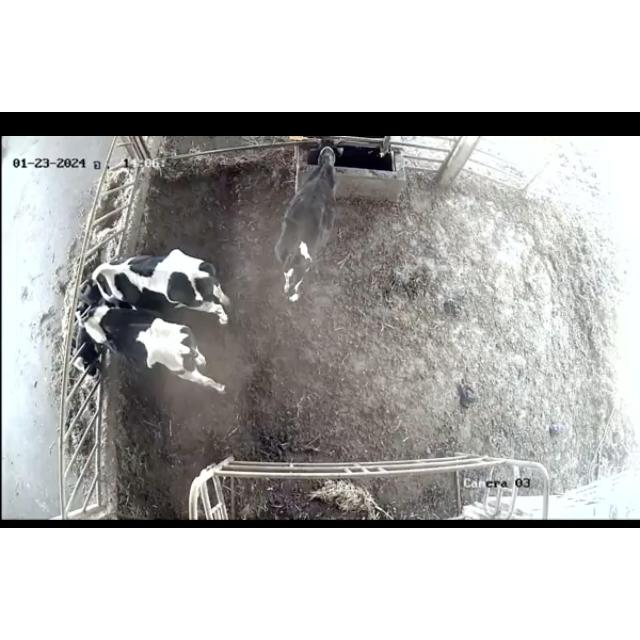drink: (302, 138, 350, 182)
eat: (58, 308, 132, 380), (56, 260, 132, 306)
